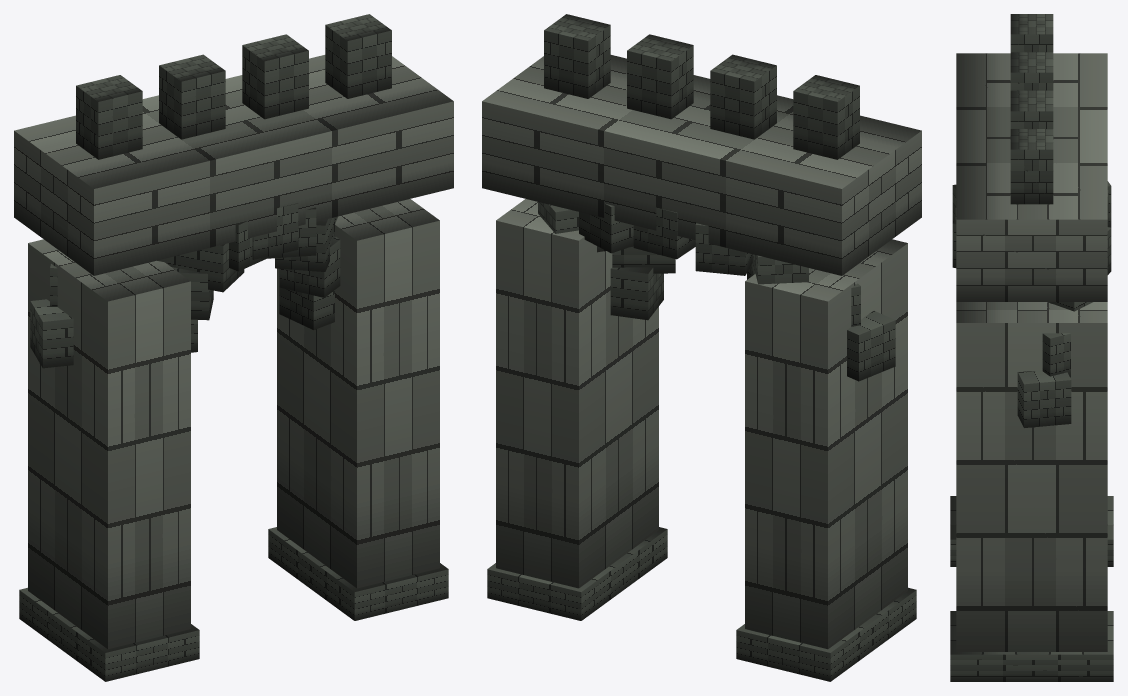
The model's file is gate_arch_dark.gltf.
3 renders of one model, left to right at view 1: azimuth 30°, elevation 25°; view 2: azimuth 150°, elevation 25°; view 3: azimuth 270°, elevation 25°, orthographic. The views are drawn at different scales.
Parts seen in each view (by area): view 1: gate_arch_dark; view 2: gate_arch_dark; view 3: gate_arch_dark.
Boxes of the visible parts, left/top/right/bottom form: gate_arch_dark: left=14, top=14, right=453, bottom=681; gate_arch_dark: left=482, top=14, right=921, bottom=681; gate_arch_dark: left=950, top=14, right=1113, bottom=681.
Size of the model in its own units: 1.4 by 1.9 by 0.54.
Materials: 1 (1 with a texture image).
